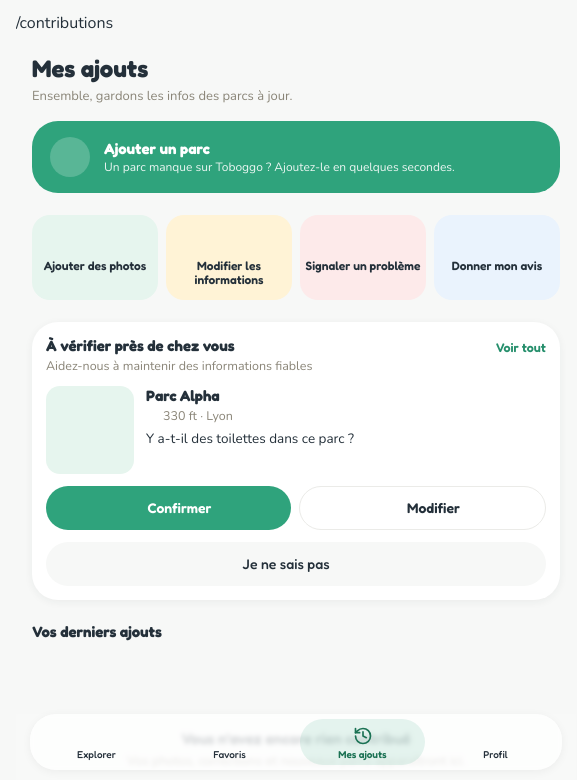
it: « À vérifier près de chez vous » — confirmation › retire le parc confirmé et affiche le suivant
This screenshot has width=577, height=780.
Click the button with aria-label "Confirmer pour Parc Alpha :": (168, 508) [46,486,291,530]
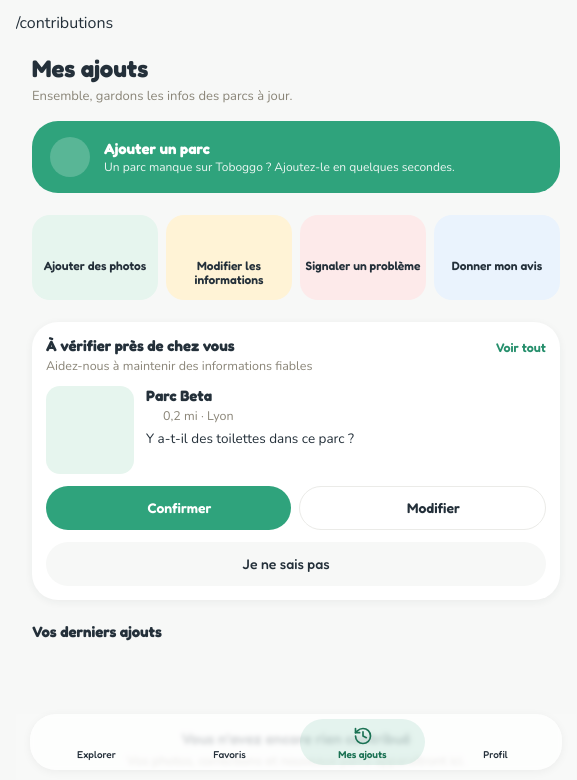
expect the text "Parc Beta" is shown: met, box [146,386,212,405]
expect the text "Parc Alpha" is gone: met
